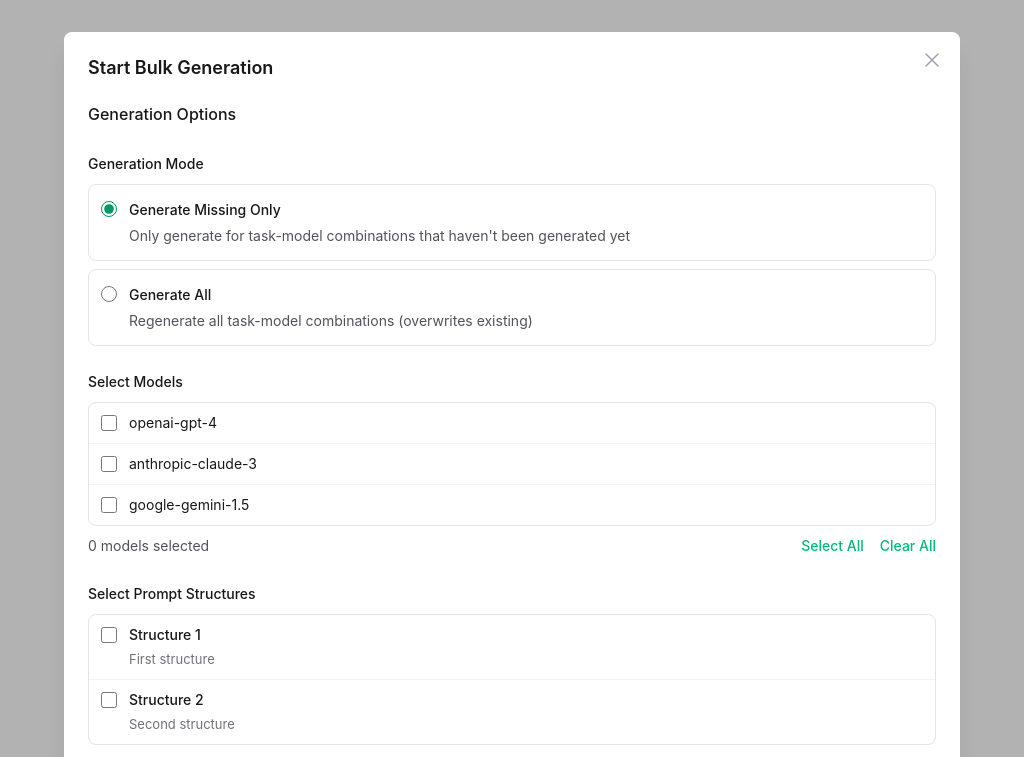
Test case: GenerationControlModal › Structure Selection › enables start button when models and structures are selected
Expected: the text "Structure 1" is shown, top-left (129, 626), bottom-right (201, 643)
Click the checkbox labelled "openai-gpt-4": (109, 423) top-left (101, 415), bottom-right (117, 431)
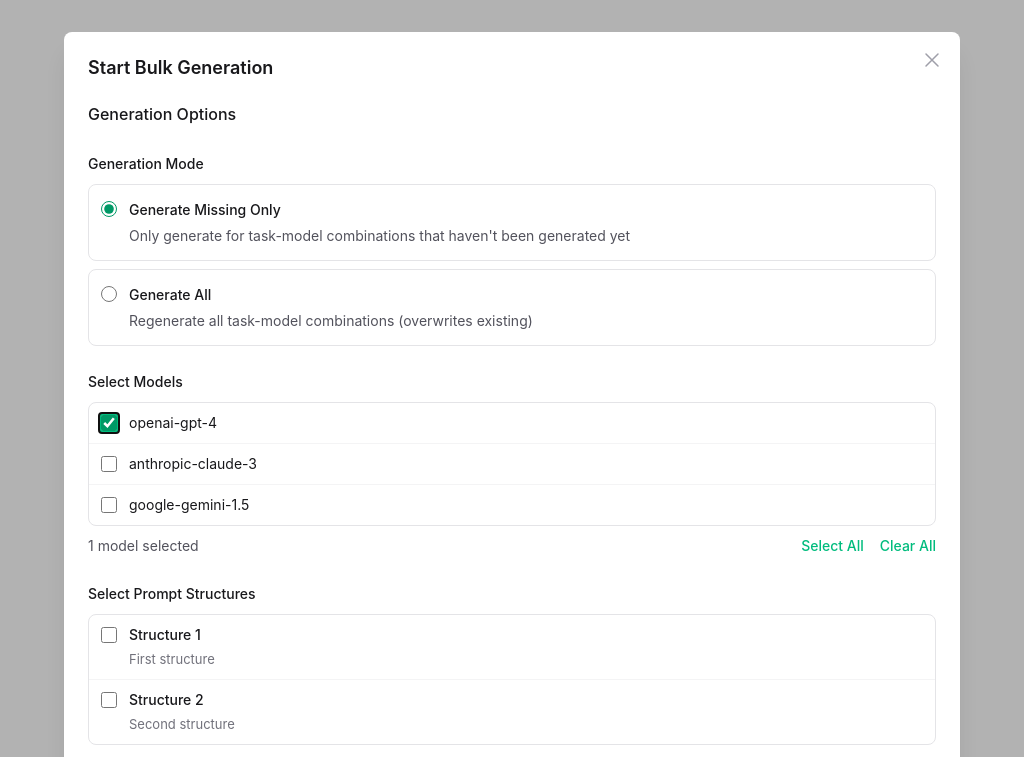
Click the checkbox with id "structure-structure1": (109, 635) top-left (101, 627), bottom-right (117, 643)
(page scrolled)
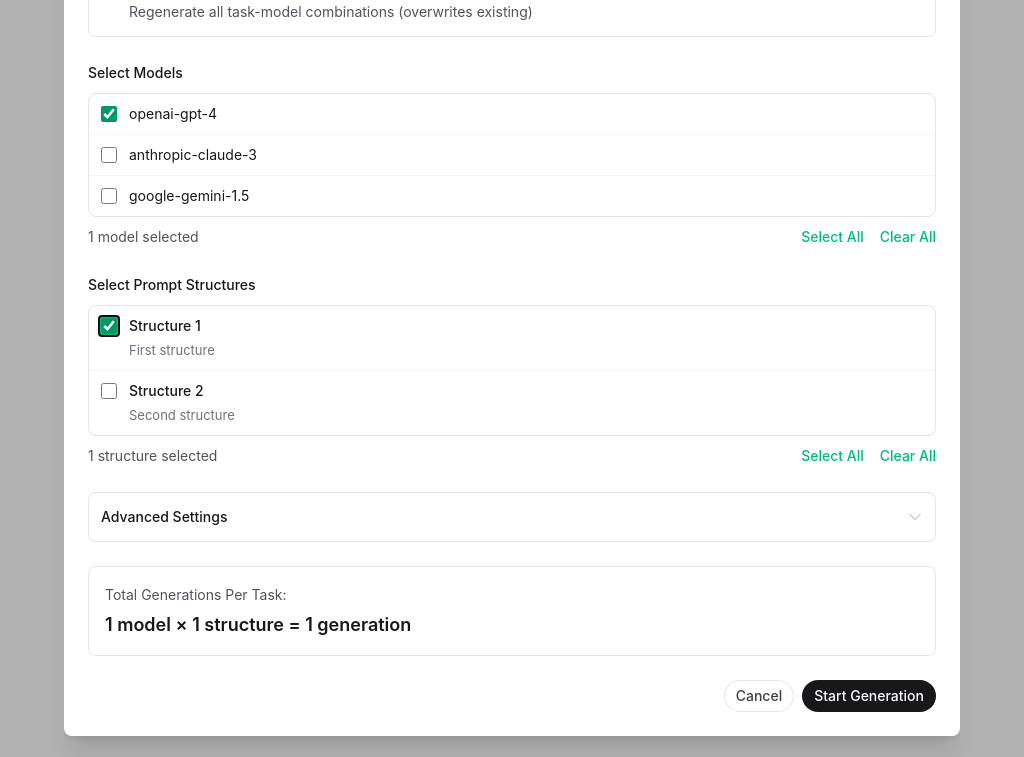
Result: the button "Start Generation" is enabled at top-left (802, 680), bottom-right (936, 712)
